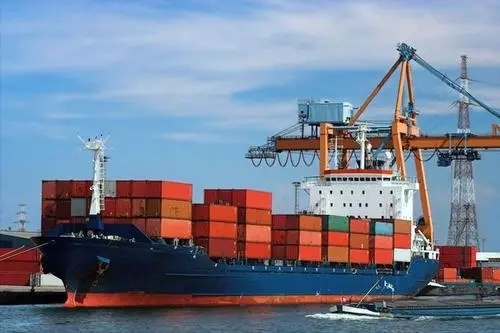Cargoship: (24, 126, 442, 304)
otherboat: (330, 275, 493, 322)
